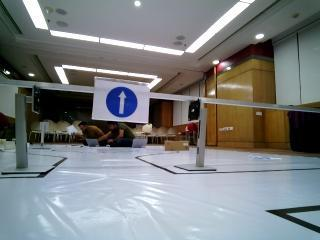straight: (93, 75, 147, 121)
